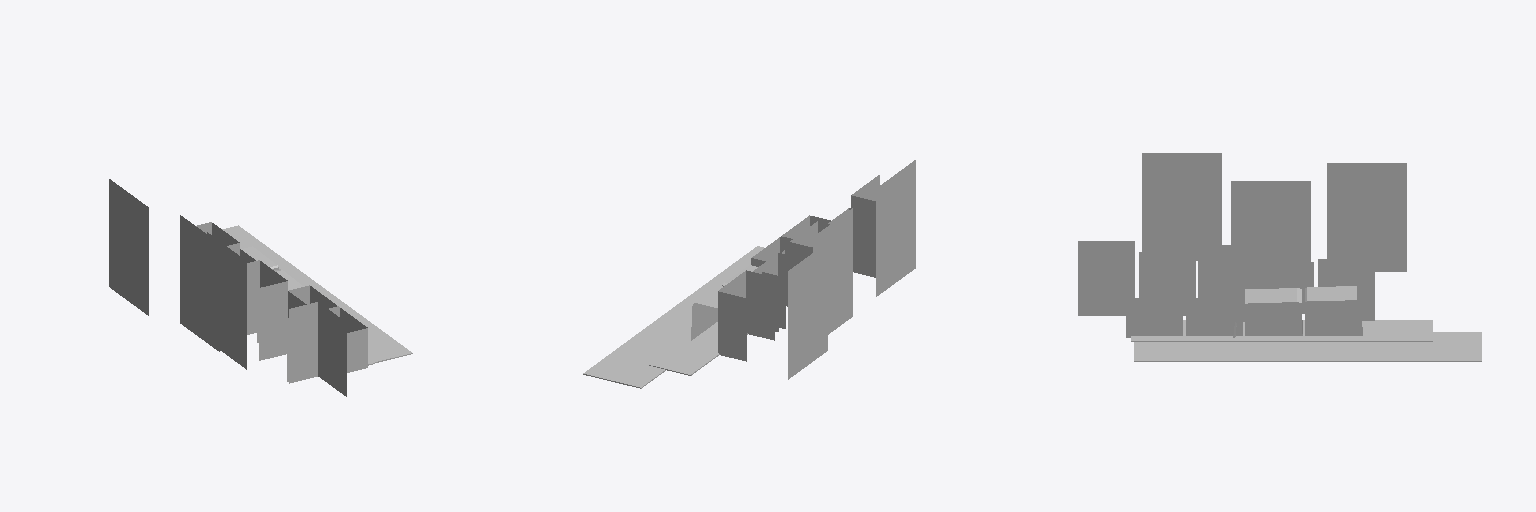
File: tempBG2.obj
3 renders of one model, left to right at view 1: azimuth 30°, elevation 25°; view 2: azimuth 150°, elevation 25°; view 3: azimuth 270°, elevation 25°, orthographic.
Visible parts, largest first — view 1: Cube.012_Cube.013; view 2: Cube.012_Cube.013; view 3: Cube.012_Cube.013.
Part boxes in pixels (left/top/right/bottom): Cube.012_Cube.013: left=109, top=179, right=412, bottom=396; Cube.012_Cube.013: left=583, top=160, right=915, bottom=388; Cube.012_Cube.013: left=1078, top=153, right=1481, bottom=361.
Size of the model in its own units: 879 by 653 by 1843.